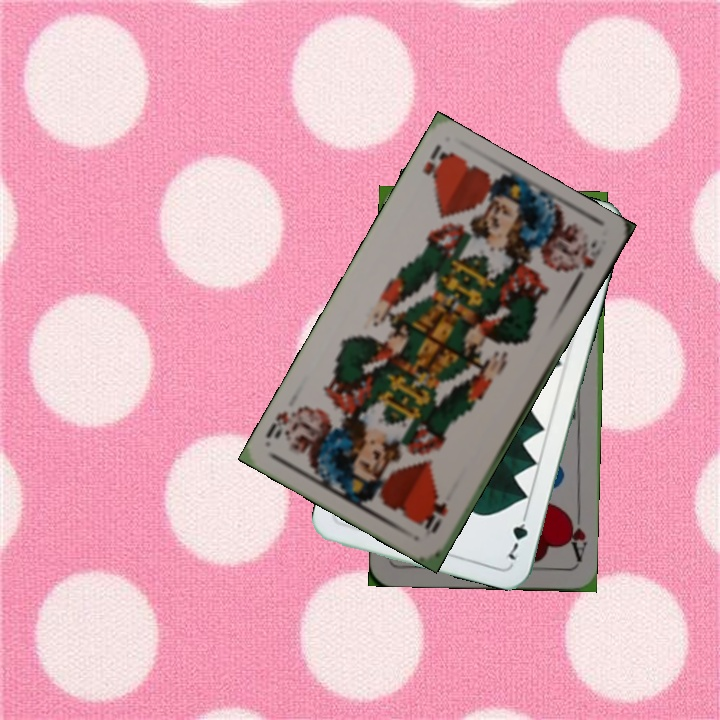G7: (504, 506, 531, 563)
HA: (562, 506, 589, 564)
HO: (418, 141, 453, 186), (421, 498, 450, 538)
